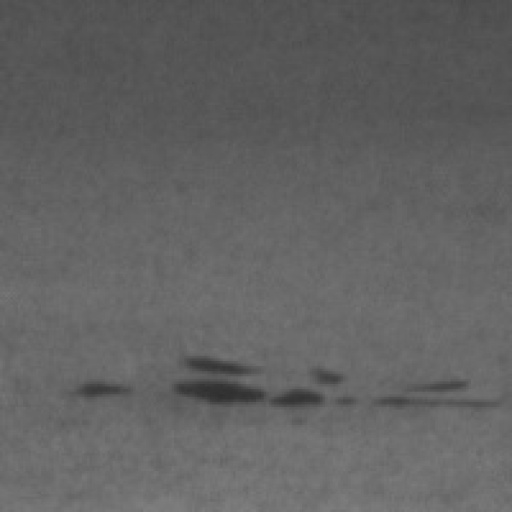inclusion: (169, 352, 512, 419), (66, 373, 136, 410)
